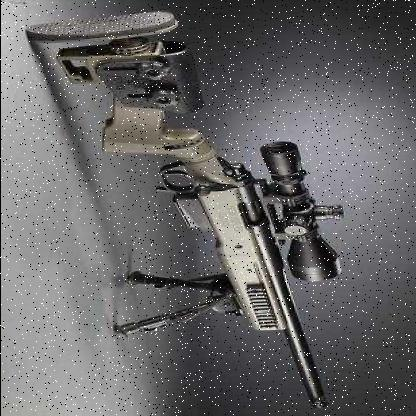rifle: (33, 14, 379, 403)
